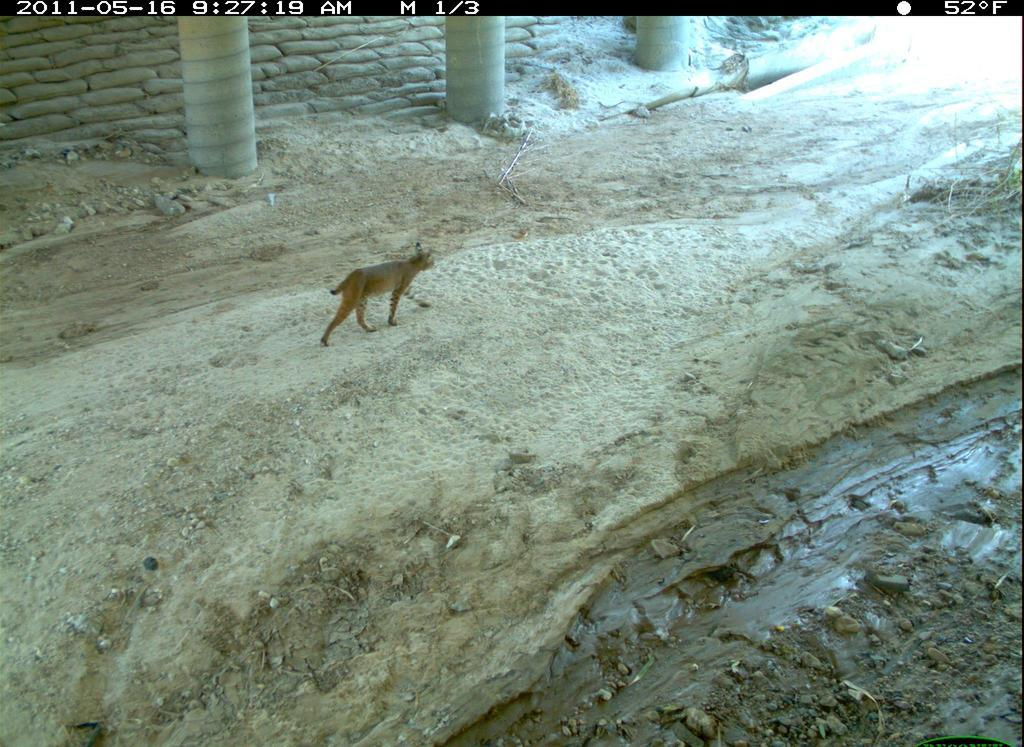bobcat: (313, 237, 446, 358)
